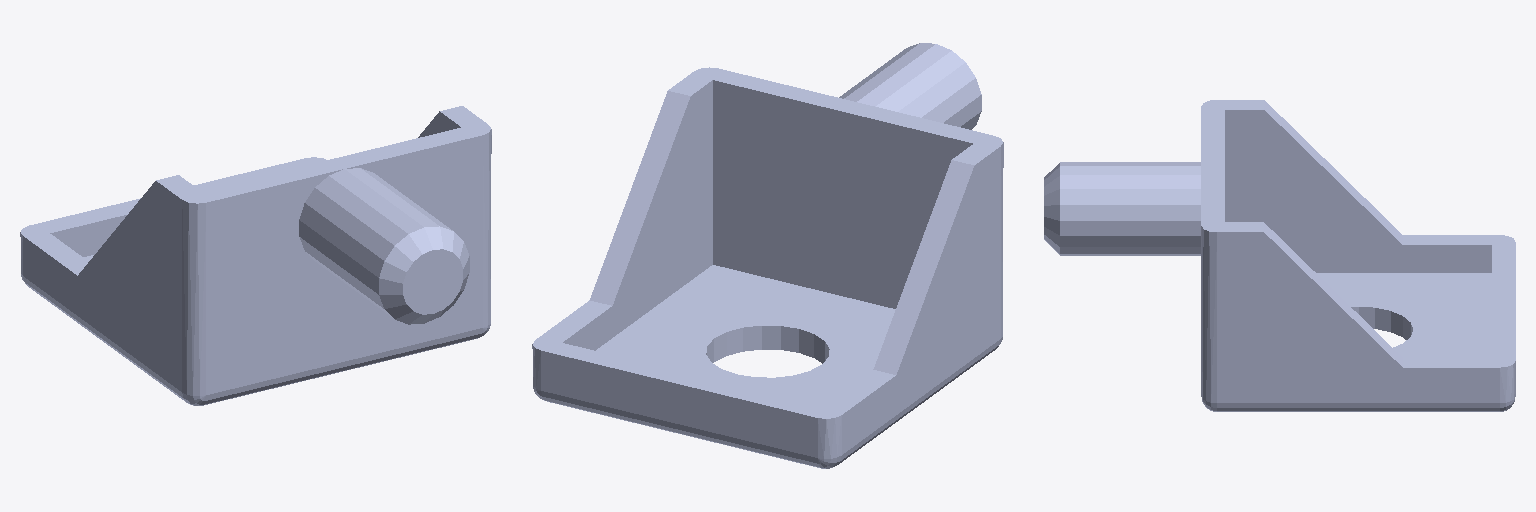
The robot description file, URDF, robot "122620.SLDPRT":
<?xml version="1.0" encoding="utf-8"?>
<!-- This URDF was automatically created by SolidWorks to URDF Exporter! Originally created by [author] ([email redacted]) 
     Commit Version: 1.5.1-0-g916b5db  Build Version: 1.5.7152.31018
     For more information, please see http://wiki.ros.org/sw_urdf_exporter -->
<robot
  name="122620.SLDPRT">
  <link
    name="122620.SLDPRT">
    <inertial>
      <origin
        xyz="9.2811E-19 -0.0050594 0.0049698"
        rpy="-1.5707963267949 0 0" />
      <mass
        value="0.001497" />
      <inertia
        ixx="1.1097E-07"
        ixy="-3.8314E-24"
        ixz="-5.6361E-24"
        iyy="1.4305E-07"
        iyz="3.1662E-08"
        izz="8.3604E-08" />
    </inertial>
    <visual>
      <origin
        xyz="0 0 0"
        rpy="0 0 0" />
      <geometry>
        <mesh
          filename="package://object_description/chair_meshes/122620.SLDPRT.STL" />
      </geometry>
      <material
        name="">
        <color
          rgba="0.79216 0.81961 0.93333 1" />
        <texture
          filename="package://object_description/textures/" />
      </material>
    </visual>
    <collision>
      <origin
        xyz="0 0 0"
        rpy="0 0 0" />
      <geometry>
        <mesh
          filename="package://object_description/chair_meshes/122620.SLDPRT.STL" />
      </geometry>
    </collision>
  </link>
	<gazebo reference="122620.SLDPRT">
    <material>Gazebo/White</material>
    <kp>100000.0</kp>
    <kd>1.0</kd>
    <mu1>100000</mu1>
    <mu2>100000</mu2>
    <maxVel>0</maxVel>
    <minDepth>0.000</minDepth>
  </gazebo>
</robot>

--- What the picture shows (computed from the rendered views, not written in the file) ---
Views: 3 orthographic renders of the robot side by side, from view 1: azimuth 30°, elevation 25°; view 2: azimuth 150°, elevation 25°; view 3: azimuth 270°, elevation 25°.
Robot: 122620.SLDPRT — 1 links, 0 joints (none); root link 122620.SLDPRT; default pose: all joints at 0.
Visible links, largest first — view 1: 122620.SLDPRT; view 2: 122620.SLDPRT; view 3: 122620.SLDPRT.
Boxes of the visible links, x1,y1,x2,y2 form: 122620.SLDPRT: (20,106,491,405); 122620.SLDPRT: (532,43,1003,468); 122620.SLDPRT: (1044,100,1515,411).
Size in the robot's own frame: 0.02 by 0.03 by 0.013 metres.
1 mesh visuals loaded from 1 distinct referenced files (1 binary STL).